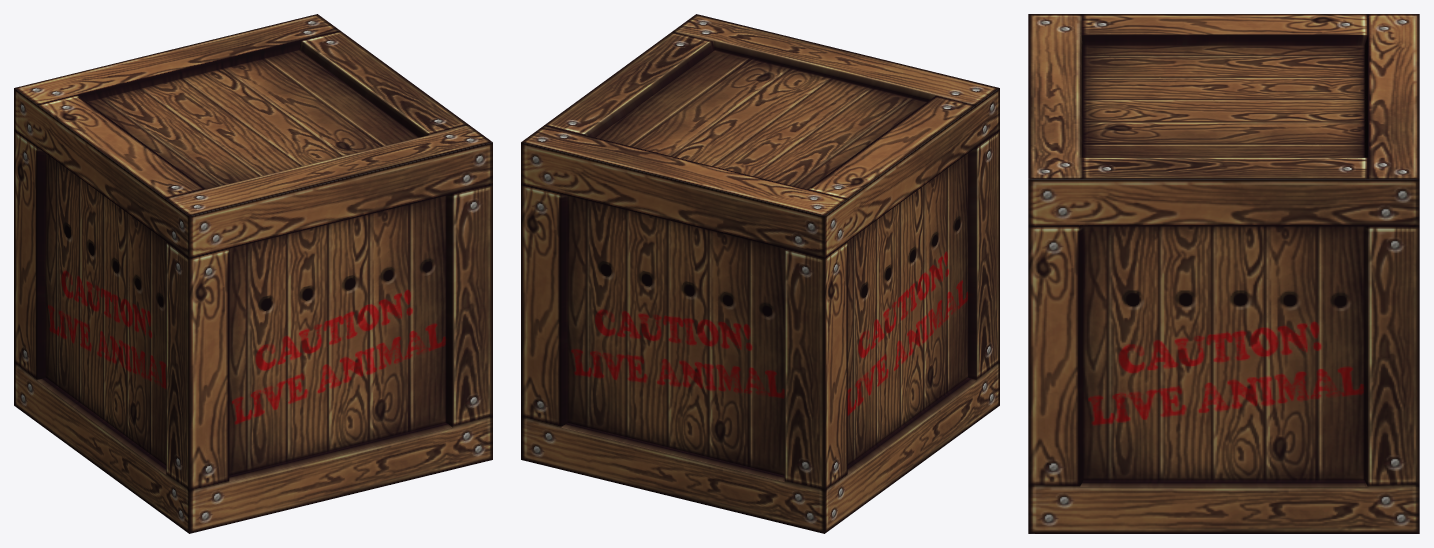
File: crate_animal.fbx
3 renders of one model, left to right at view 1: azimuth 30°, elevation 25°; view 2: azimuth 150°, elevation 25°; view 3: azimuth 270°, elevation 25°, orthographic. The views are drawn at different scales.
Visible parts, largest first — view 1: crate_animal; view 2: crate_animal; view 3: crate_animal.
Boxes of the visible parts, bbox=[...] form: crate_animal: bbox=[14, 14, 492, 533]; crate_animal: bbox=[521, 14, 999, 533]; crate_animal: bbox=[1028, 14, 1419, 533].
Bounding box in the file's own units: 3.03 × 3.03 × 3.03.
